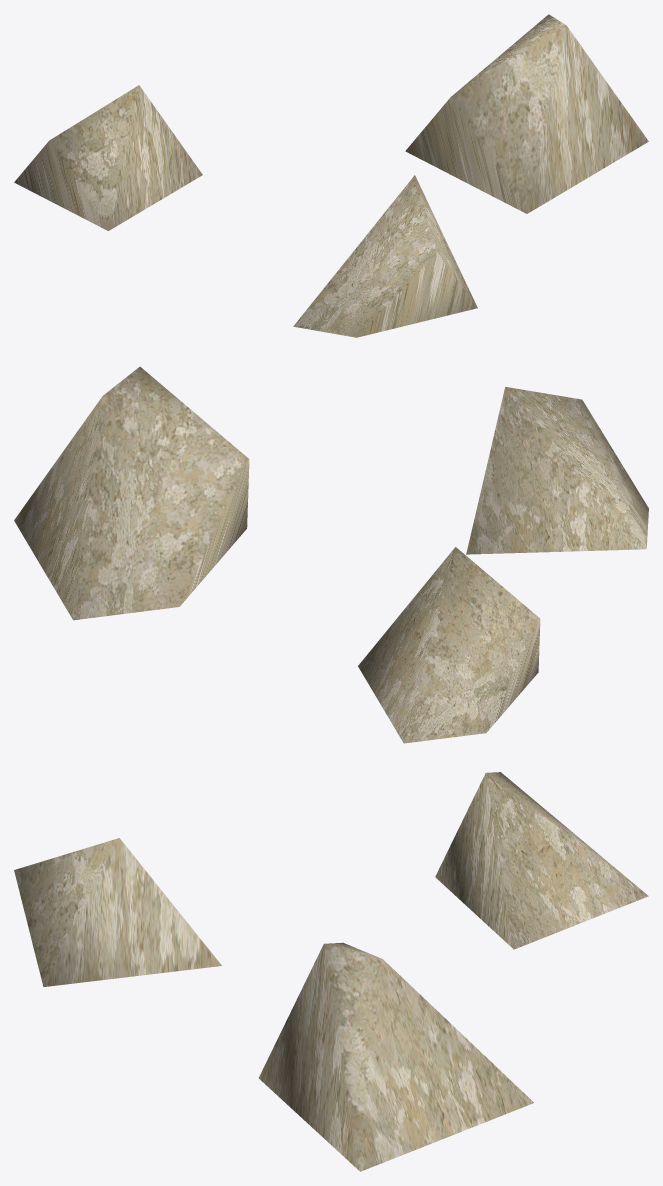
File: rock_small_pile_a1_l2.fbx
3 renders of one model, top to bottom at view 1: azimuth 30°, elevation 25°; view 2: azimuth 150°, elevation 25°; view 3: azimuth 270°, elevation 25°, orthographic. The views are drawn at different scales.
Parts seen in each view (by area): view 1: mesh_node; view 2: mesh_node; view 3: mesh_node.
Boxes of the visible parts, box(x1,y1,x2,y2) form: mesh_node: box(14, 14, 648, 337); mesh_node: box(14, 366, 648, 743); mesh_node: box(14, 772, 648, 1171).
Bounding box in the file's own units: 1.3 × 0.3568 × 1.16.
